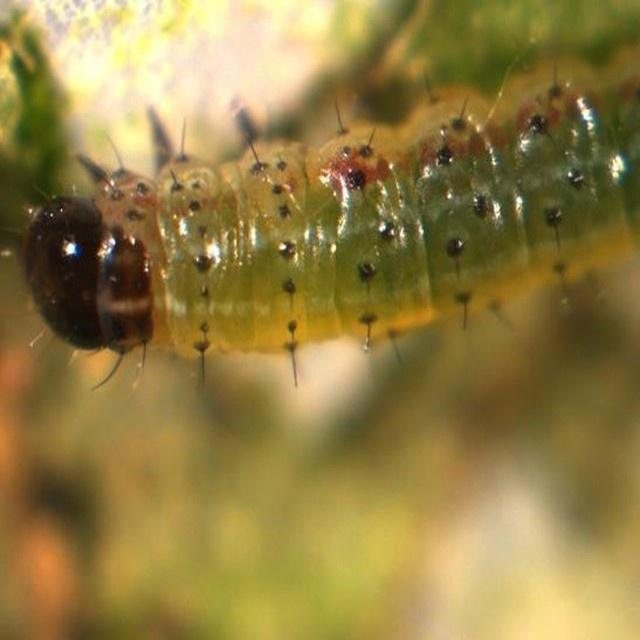gusano_cogollero: (26, 80, 634, 390)
